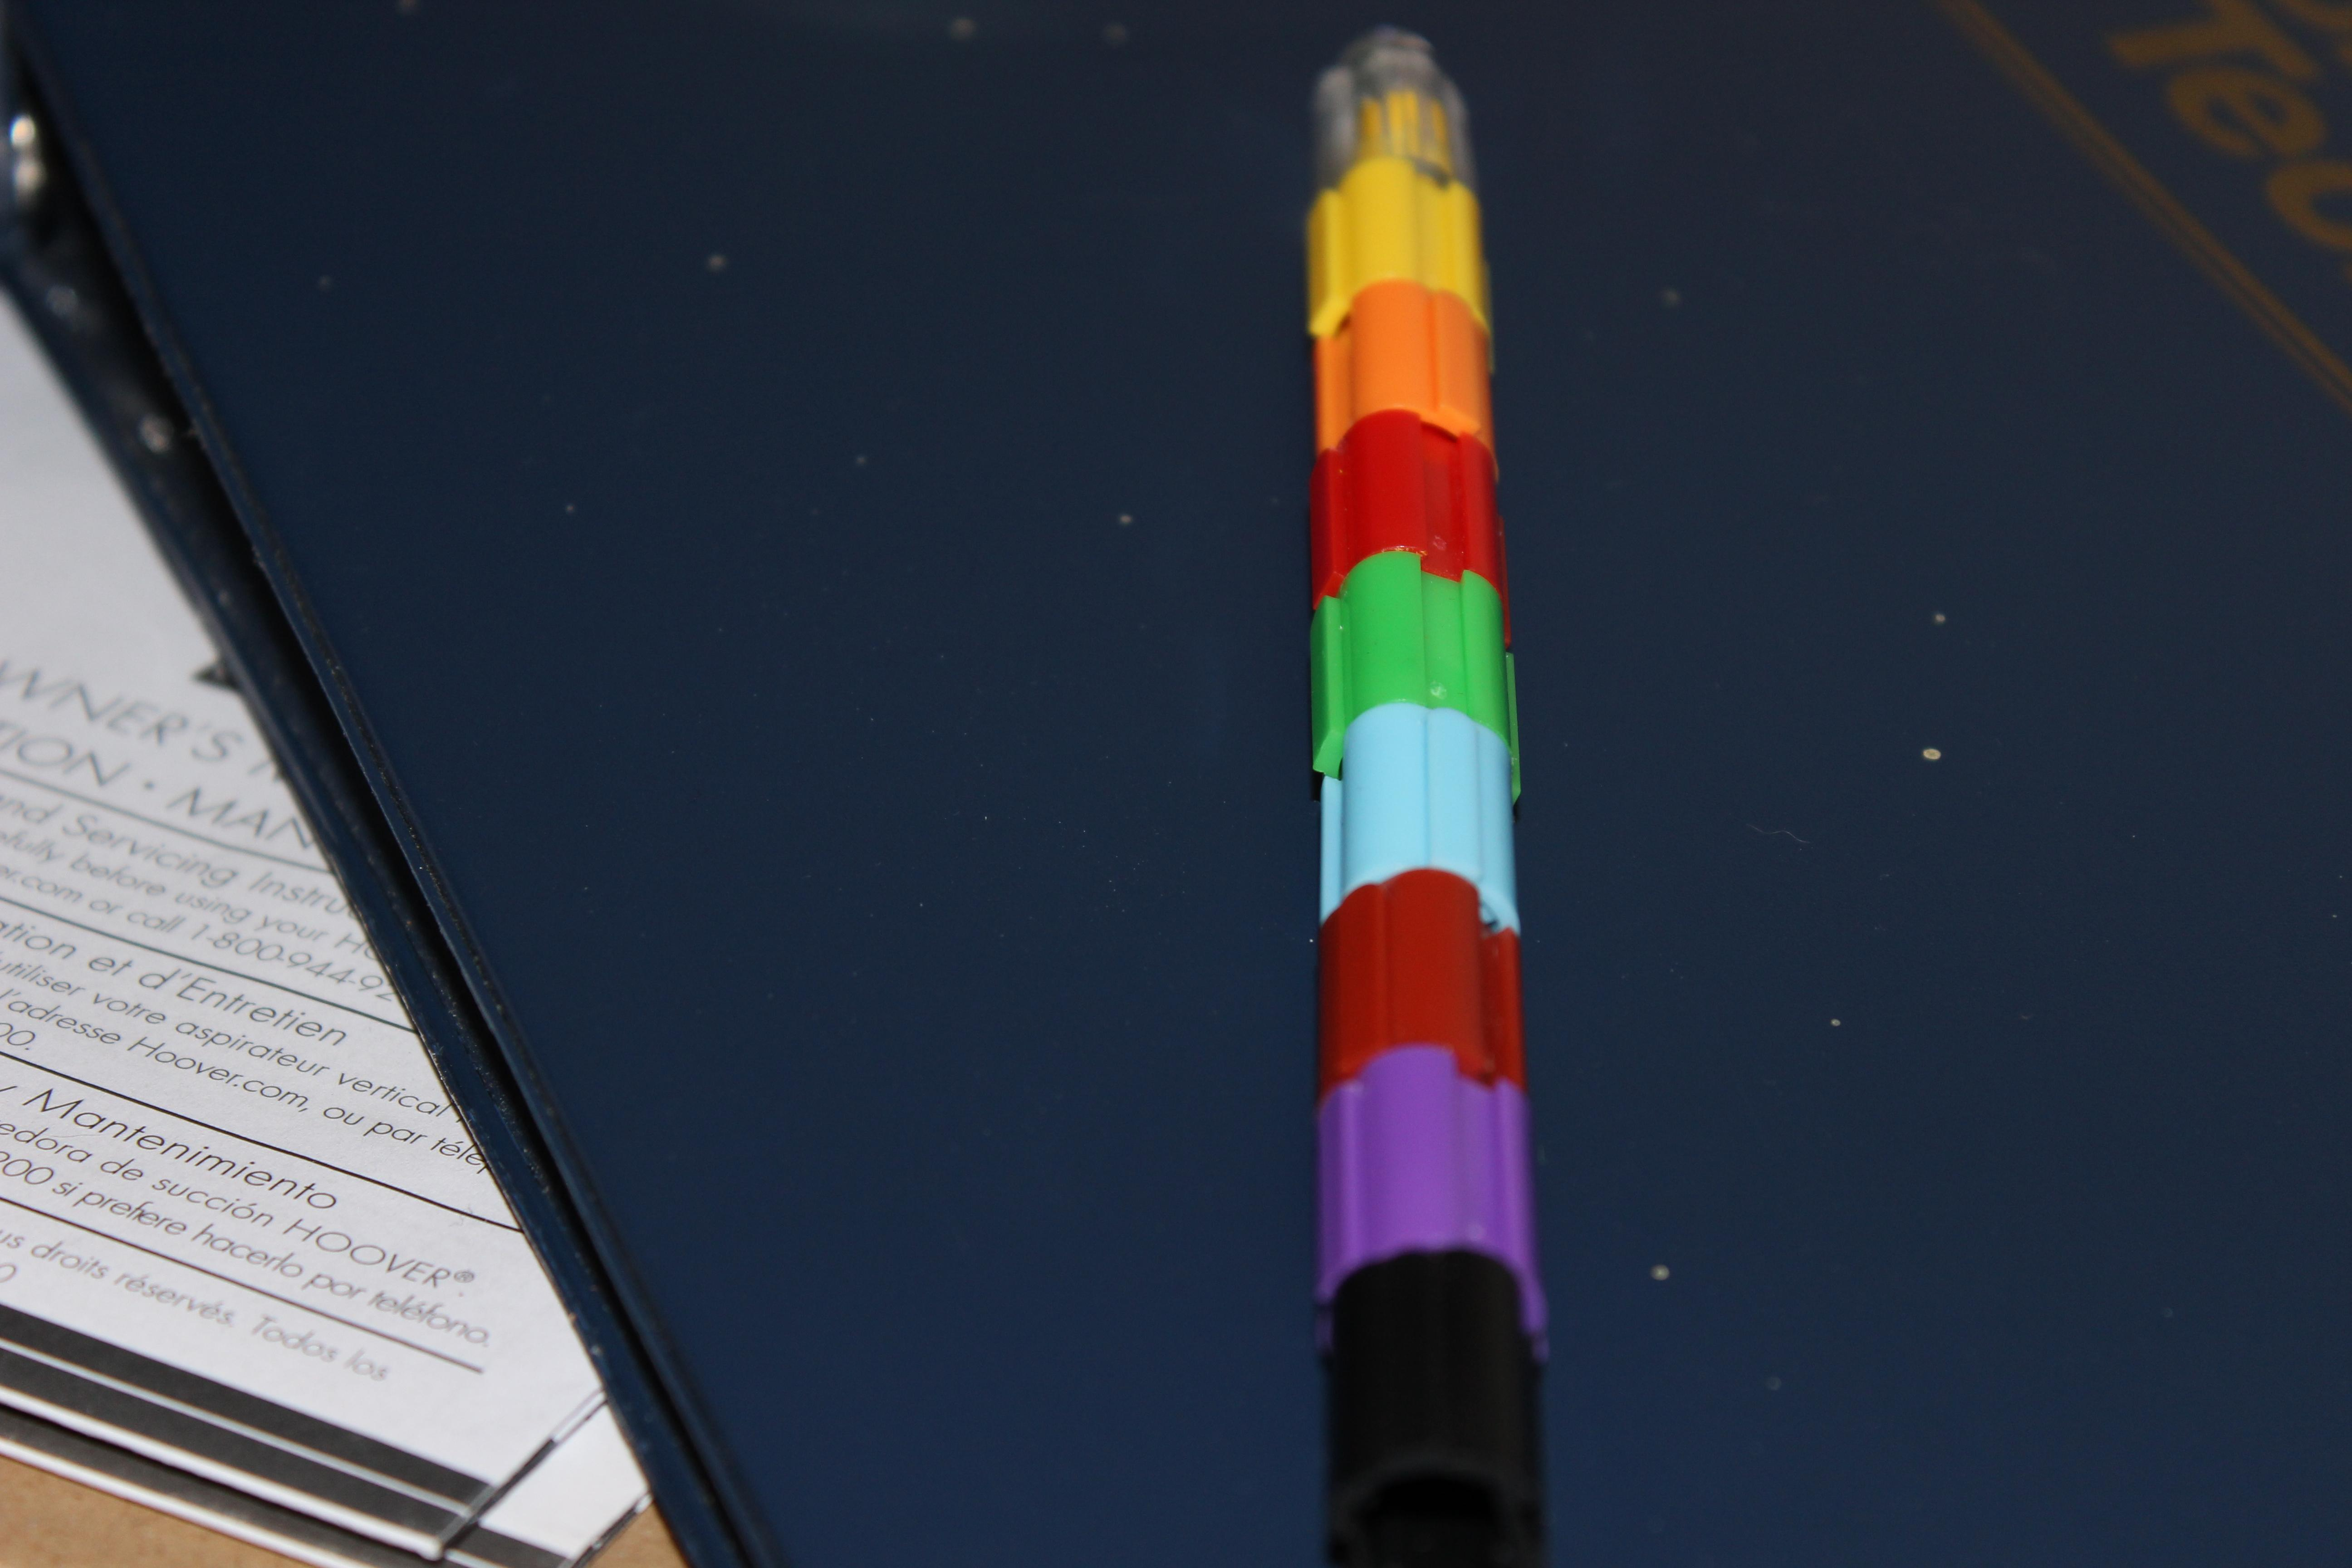rainbowPens: (1216, 19, 1636, 1563)
